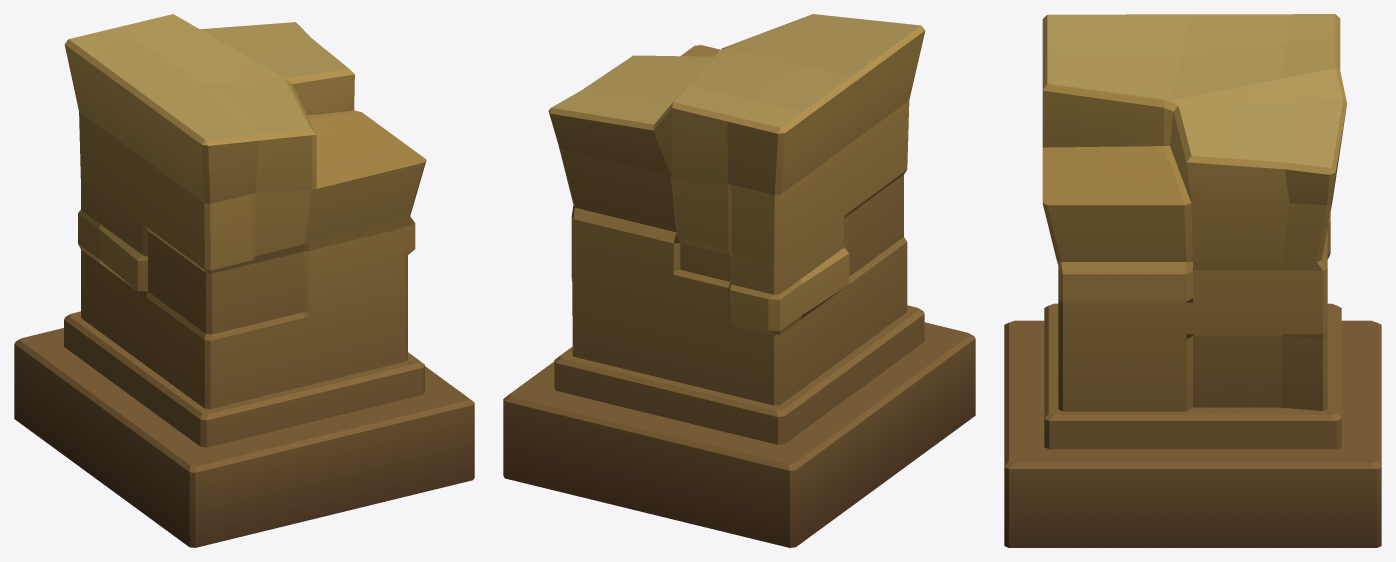
File: Pilar.fbx
3 views of the same model, side by side, from view 1: azimuth 30°, elevation 25°; view 2: azimuth 150°, elevation 25°; view 3: azimuth 270°, elevation 25° (orthographic). The views are drawn at different scales.
Parts seen in each view (by area): view 1: Pilar; view 2: Pilar; view 3: Pilar.
Part boxes in pixels (x1,y1,x2,y2): Pilar: [14, 14, 474, 547]; Pilar: [503, 14, 975, 547]; Pilar: [1004, 14, 1381, 547].
Size of the model in its own units: 182 by 236 by 199.
